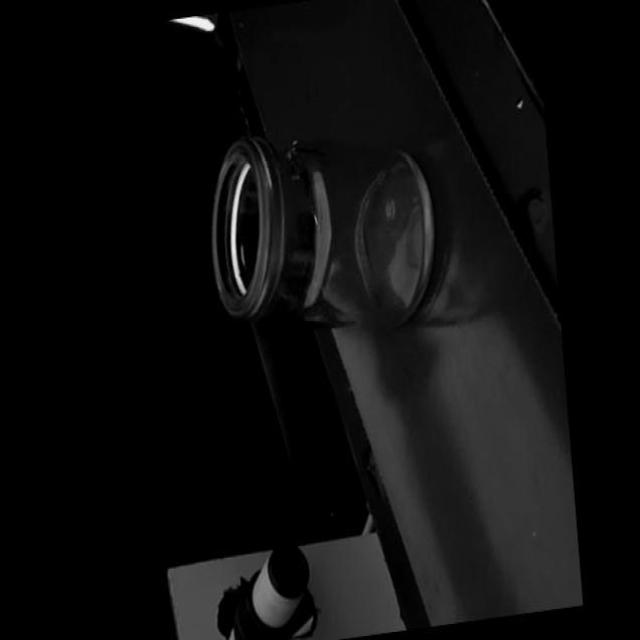defect: (311, 197, 323, 233)
glass: (200, 114, 445, 357)
